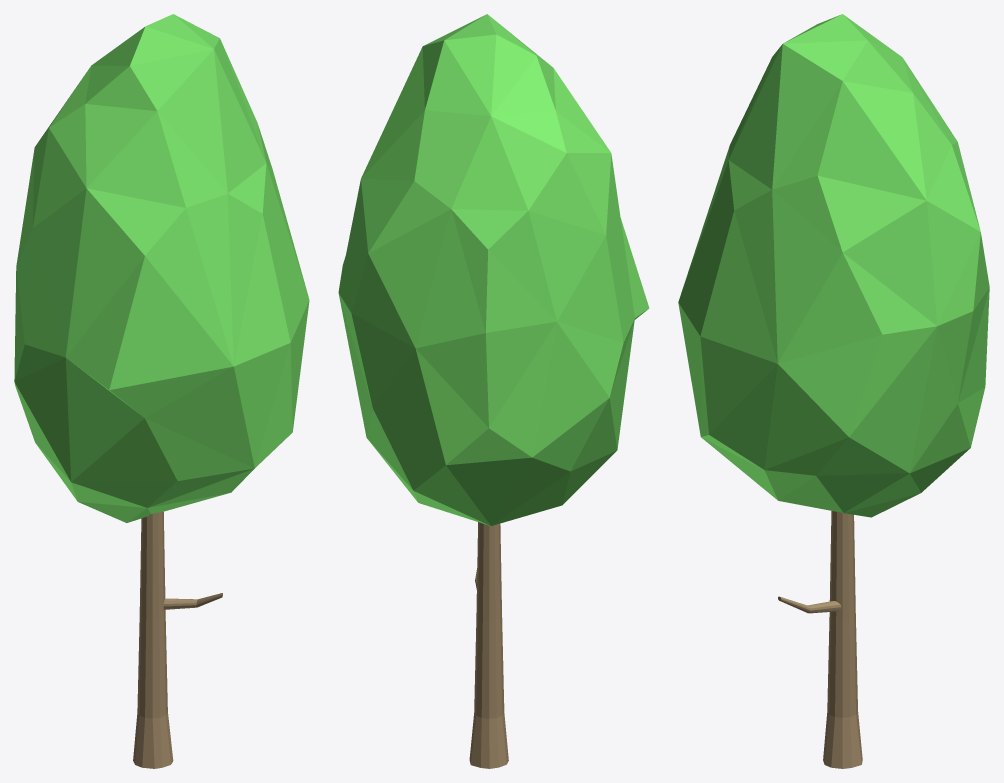
The model's file is Tree 3.fbx.
3 renders of one model, left to right at view 1: azimuth 30°, elevation 25°; view 2: azimuth 150°, elevation 25°; view 3: azimuth 270°, elevation 25°, orthographic. The views are drawn at different scales.
Parts seen in each view (by area): view 1: tree_010_green; view 2: tree_010_green; view 3: tree_010_green.
Boxes of the visible parts, left/top/right/bottom form: tree_010_green: left=14, top=14, right=309, bottom=768; tree_010_green: left=338, top=14, right=649, bottom=768; tree_010_green: left=678, top=14, right=989, bottom=768.
Bounding box in the file's own units: 2.9 × 7.57 × 2.88.
